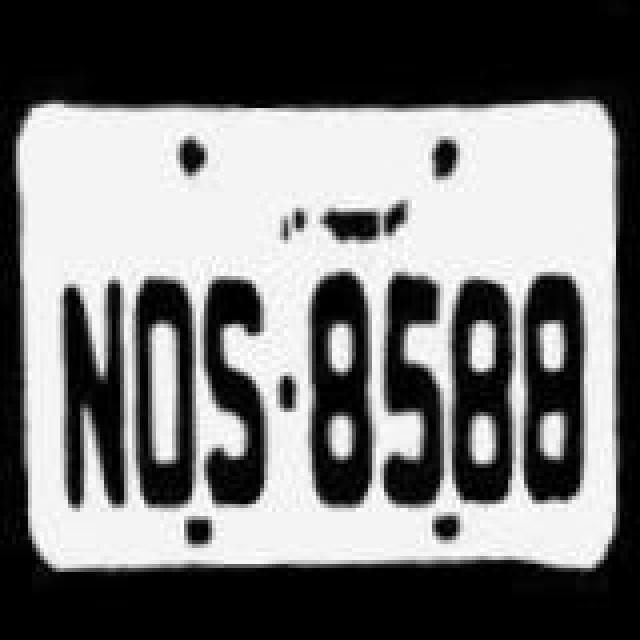5: (368, 268, 452, 508)
8: (294, 262, 382, 514), (516, 262, 600, 510), (442, 276, 522, 508)
N: (52, 254, 136, 510)
O: (120, 260, 204, 508)
S: (190, 270, 286, 514)
